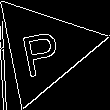P_N: (20, 20, 68, 77)
